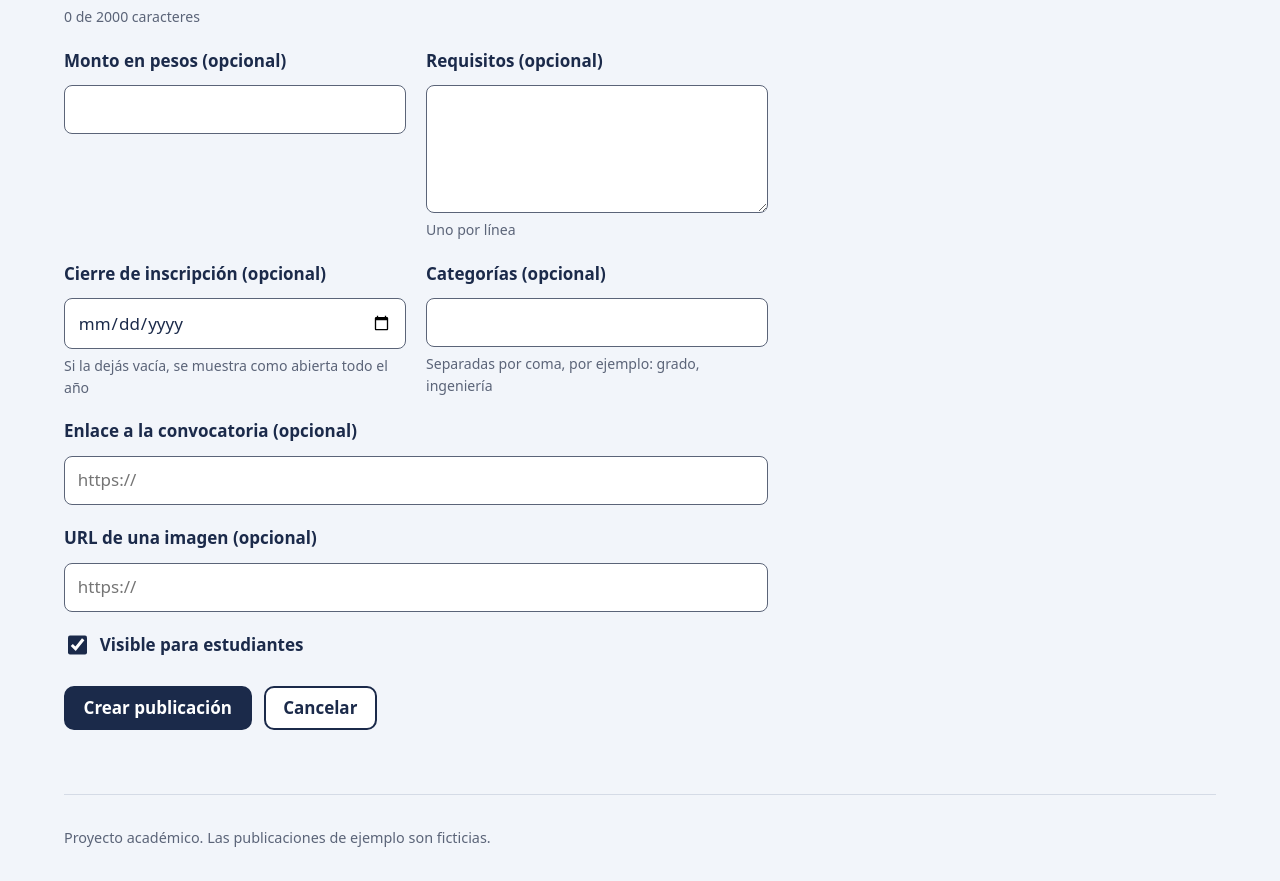
Test case: Editor de publicaciones › valida los campos obligatorios antes de enviar
(page scrolled)
Click the button "Crear publicación" at [158, 708], box [64,686,252,730]
(page scrolled)
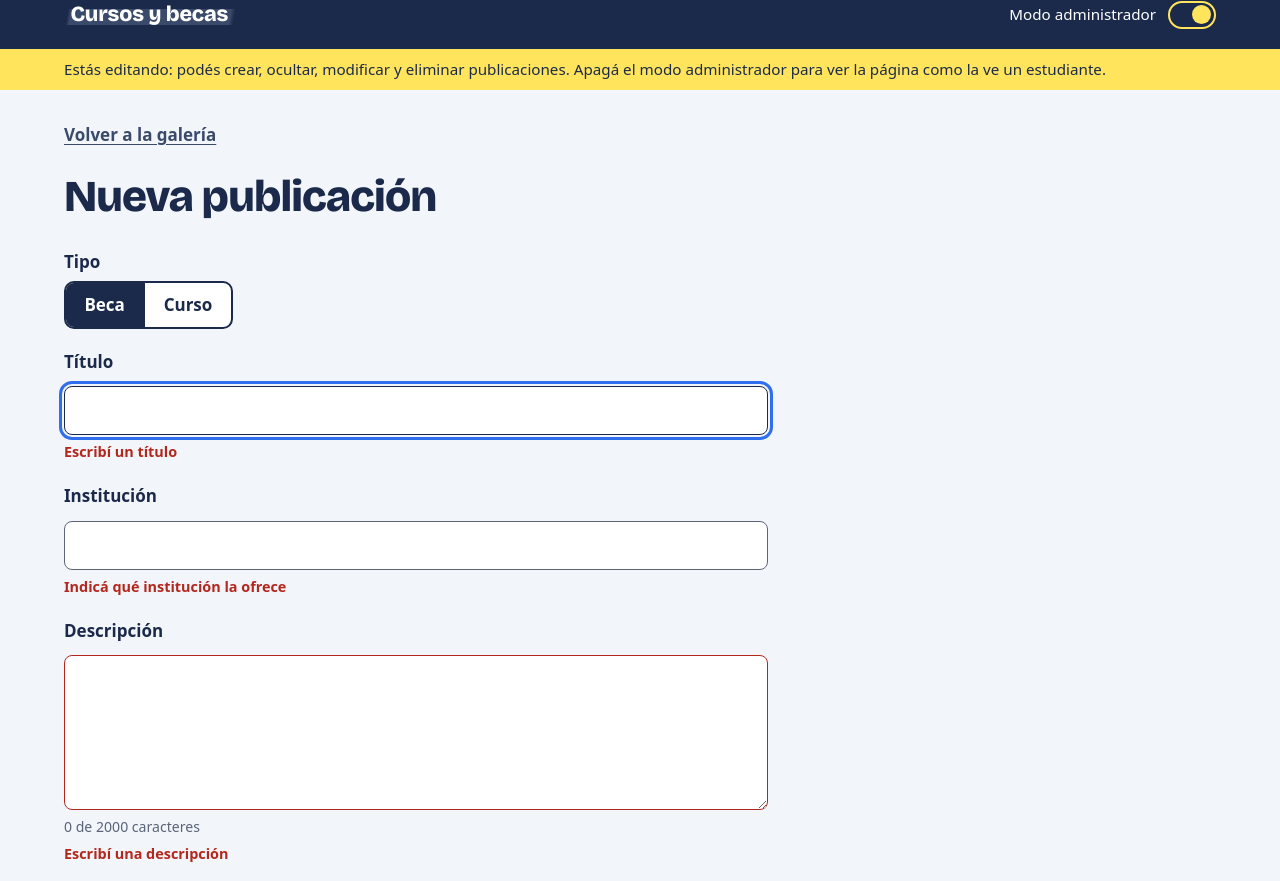
Expected: the text "Escribí un título" is shown, [64,442,177,461]
Expected: the text "Indicá qué institución la ofrece" is shown, [64,577,286,596]
